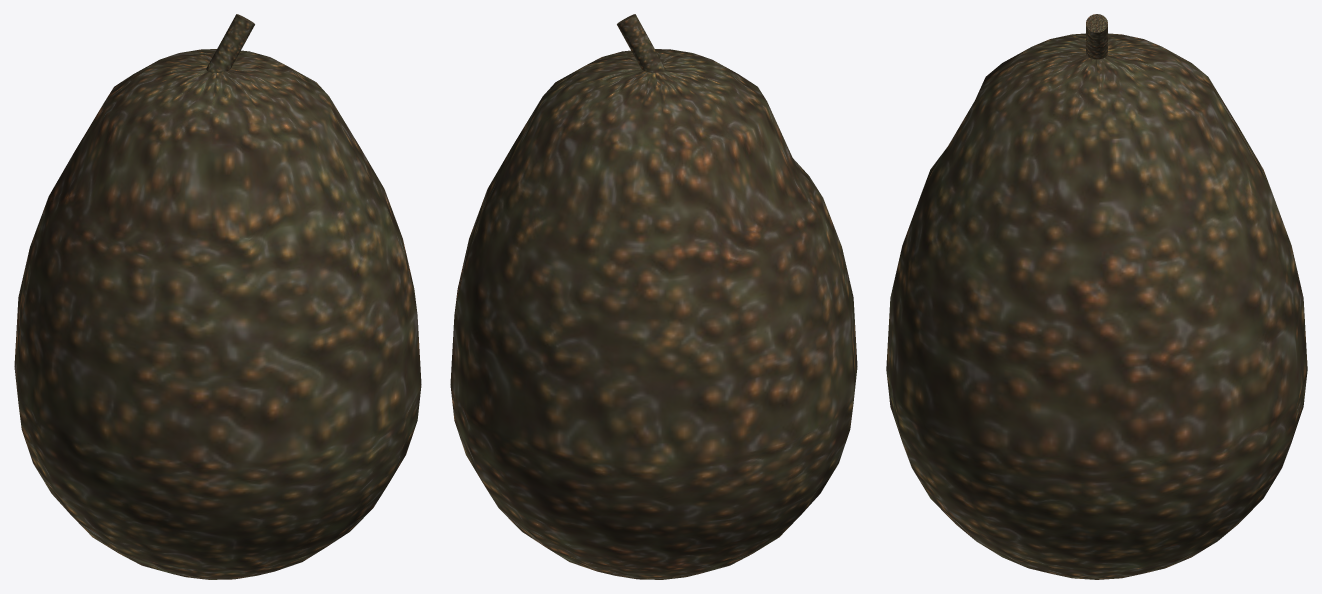
Rendered from avac.fbx.
3 renders of one model, left to right at view 1: azimuth 30°, elevation 25°; view 2: azimuth 150°, elevation 25°; view 3: azimuth 270°, elevation 25°, orthographic. The views are drawn at different scales.
Parts seen in each view (by area): view 1: pSphere2; view 2: pSphere2; view 3: pSphere2.
Boxes of the visible parts, x1,y1,x2,y2 form: pSphere2: [14, 14, 421, 579]; pSphere2: [450, 14, 857, 579]; pSphere2: [886, 14, 1307, 579].
Size of the model in its own units: 2 by 2.91 by 2.
